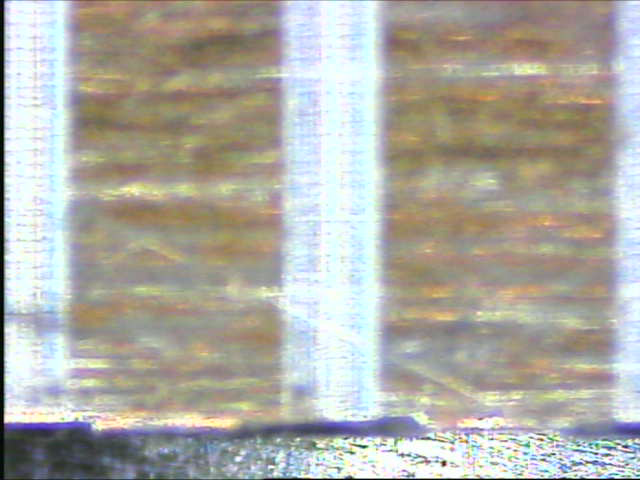line: (276, 2, 382, 428)
